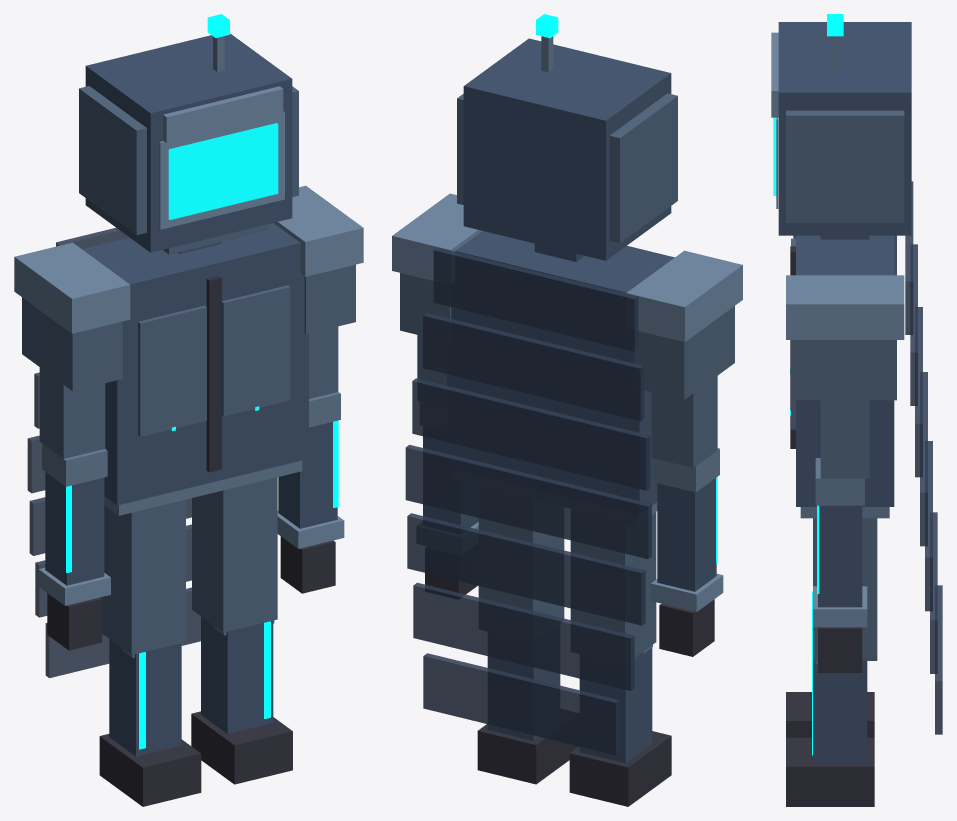
Rendered from cipher_character.glb.
3 views of the same model, side by side, from view 1: azimuth 30°, elevation 25°; view 2: azimuth 150°, elevation 25°; view 3: azimuth 270°, elevation 25° (orthographic). The views are drawn at different scales.
Visible parts, largest first — view 1: torso_10, skull_32, thigh_5, thigh_0, chest_R_12, chest_L_11, visor_37, cheek_L_33, shoulder_top_15, shin_2, shin_7, shoulder_body_16 (+27 smaller); view 2: skull_32, cape_3_44, cape_2_43, cape_4_45, torso_10, cape_5_46, cape_1_42, cape_0_41, cape_6_47, cheek_L_33, shoulder_top_15, forearm_21 (+15 smaller); view 3: skull_32, cheek_R_34, torso_10, shoulder_top_17, shoulder_body_18, shin_7, boot_8, forearm_27, upper_arm_25, thigh_5, hand_29, boot_3 (+14 smaller).
Boxes of the visible parts, <box> form: torso_10: <box>82,223,308,505</box>; skull_32: <box>85,33,292,252</box>; thigh_5: <box>192,477,277,632</box>; thigh_0: <box>100,499,185,654</box>; chest_R_12: <box>222,285,290,416</box>; chest_L_11: <box>138,305,206,436</box>; visor_37: <box>168,123,278,219</box>; cheek_L_33: <box>79,86,146,235</box>; shoulder_top_15: <box>14,242,130,333</box>; shin_2: <box>109,639,181,756</box>; shin_7: <box>201,616,273,733</box>; shoulder_body_16: <box>22,297,122,390</box>; skull_32: <box>463,38,671,260</box>; cape_3_44: <box>405,444,651,558</box>; cape_2_43: <box>412,378,650,490</box>; cape_4_45: <box>407,513,645,625</box>; torso_10: <box>447,231,674,505</box>; cape_5_46: <box>413,582,634,690</box>; cape_1_42: <box>423,313,644,421</box>; cape_0_41: <box>433,247,638,351</box>; cape_6_47: <box>423,653,619,755</box>; cheek_L_33: <box>609,93,677,243</box>; shoulder_top_15: <box>626,250,742,342</box>; forearm_21: <box>657,478,716,591</box>; skull_32: <box>778,22,911,235</box>; cheek_R_34: <box>786,110,904,222</box>; torso_10: <box>796,235,894,506</box>; shoulder_top_17: <box>786,275,904,339</box>; shoulder_body_18: <box>793,340,896,400</box>; shin_7: <box>813,661,867,763</box>; boot_8: <box>786,737,874,806</box>; forearm_27: <box>818,505,862,607</box>; upper_arm_25: <box>820,400,869,478</box>; thigh_5: <box>813,518,877,660</box>; hand_29: <box>818,627,862,672</box>; boot_3: <box>786,692,874,737</box>.
Bounding box in the file's own units: 0.7 × 1.71 × 0.348.
